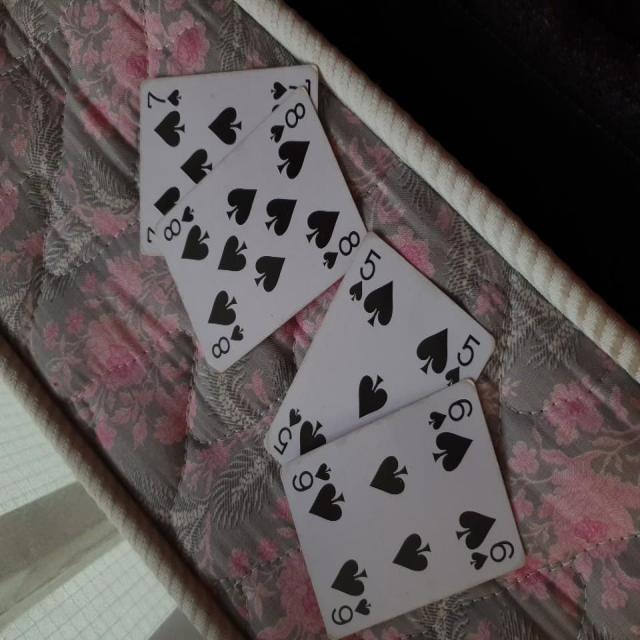5 Spades: (261, 228, 493, 484)
6 Spades: (278, 369, 535, 640)
7 Spades: (133, 62, 330, 260)
8 Spades: (154, 88, 369, 379)
